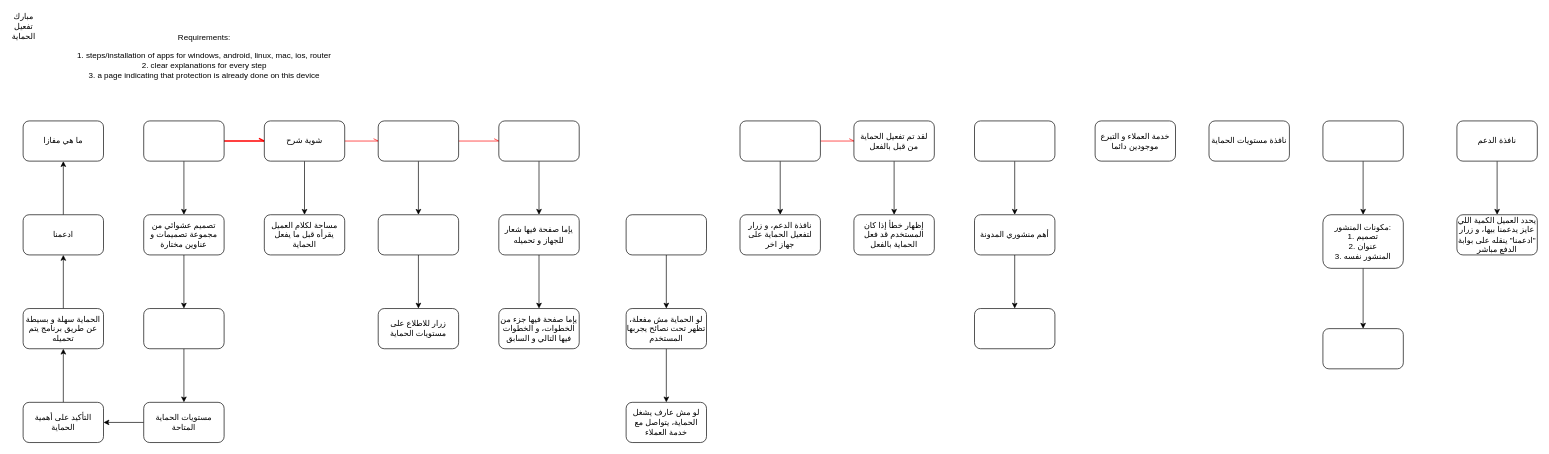
Image size: 1549x454. Some labels were removed from this diagram. Here are the shapes that lost their labels. From the top down, the box of each, then its label:
(143, 120, 224, 161): الصفحة الرئيسية
(378, 120, 459, 161): اختار الجهاز اللي عايز تفعل عليه الحماية
(498, 120, 579, 161): شرح خطوات أو برنامج للتحميل
(739, 120, 820, 161): دعمنا، أم تفعليها على جهاز اخر
(974, 120, 1055, 161): الصفحة الرئيسية للمدونة
(1322, 120, 1403, 161): منشور في المدونة
(378, 214, 459, 255): اختيار الجهاز اللي عايز يفعل عليه الحماية
(625, 214, 707, 255): خطوات لاختبار إن كانت الحماية تم تفعيلها بالفعل
(143, 308, 224, 349): دعوة لقراءة أهم منشوري المدونة
(974, 308, 1055, 349): منشورات
(1322, 328, 1403, 369): اطلع على منشورات أخرى
